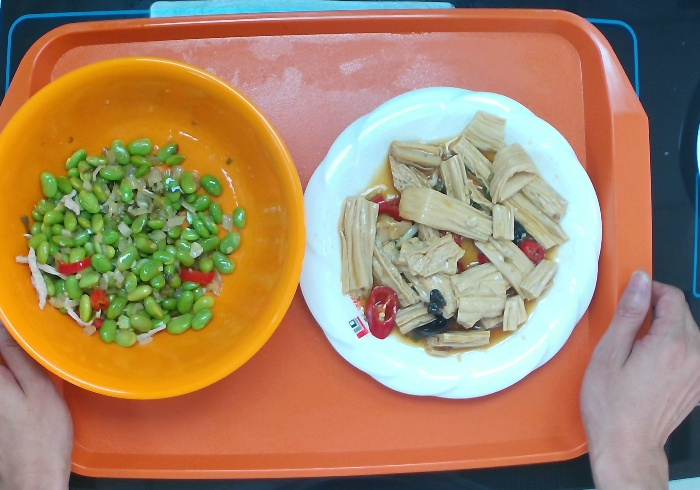ZNLD-Hua_Bian_Wan: (297, 84, 604, 400)
ZNLD-Ju_Se_Tang_Wan: (1, 54, 307, 401)
